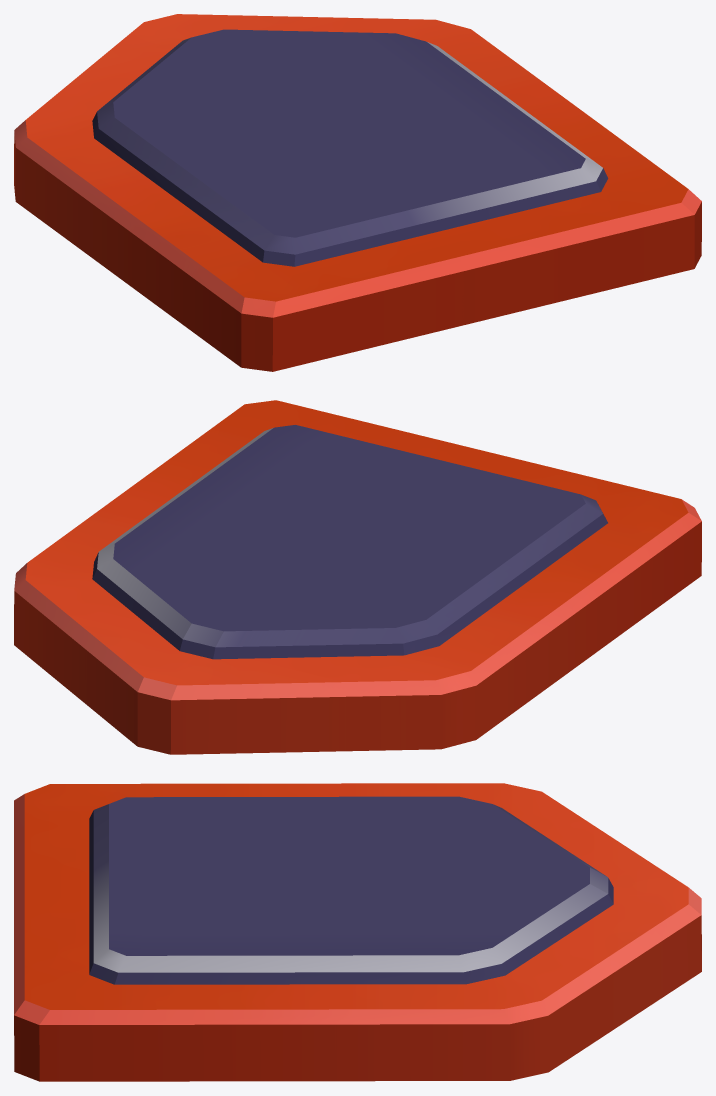
The model's file is Number_BG.fbx.
The picture shows the model from 3 angles, top to bottom: view 1: azimuth 30°, elevation 25°; view 2: azimuth 150°, elevation 25°; view 3: azimuth 270°, elevation 25°; orthographic projection. The views are drawn at different scales.
Parts seen in each view (by area): view 1: Number_BG; view 2: Number_BG; view 3: Number_BG.
Part boxes in pixels (x1,y1,x2,y2): Number_BG: (14,14,701,371); Number_BG: (14,400,701,754); Number_BG: (14,783,701,1081).
Size of the model in its own units: 136 by 24.02 by 169.
